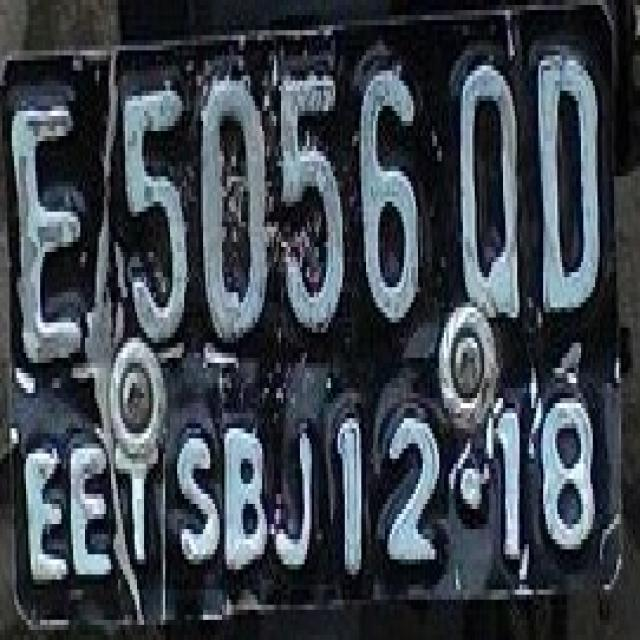plate: (2, 51, 616, 584)
